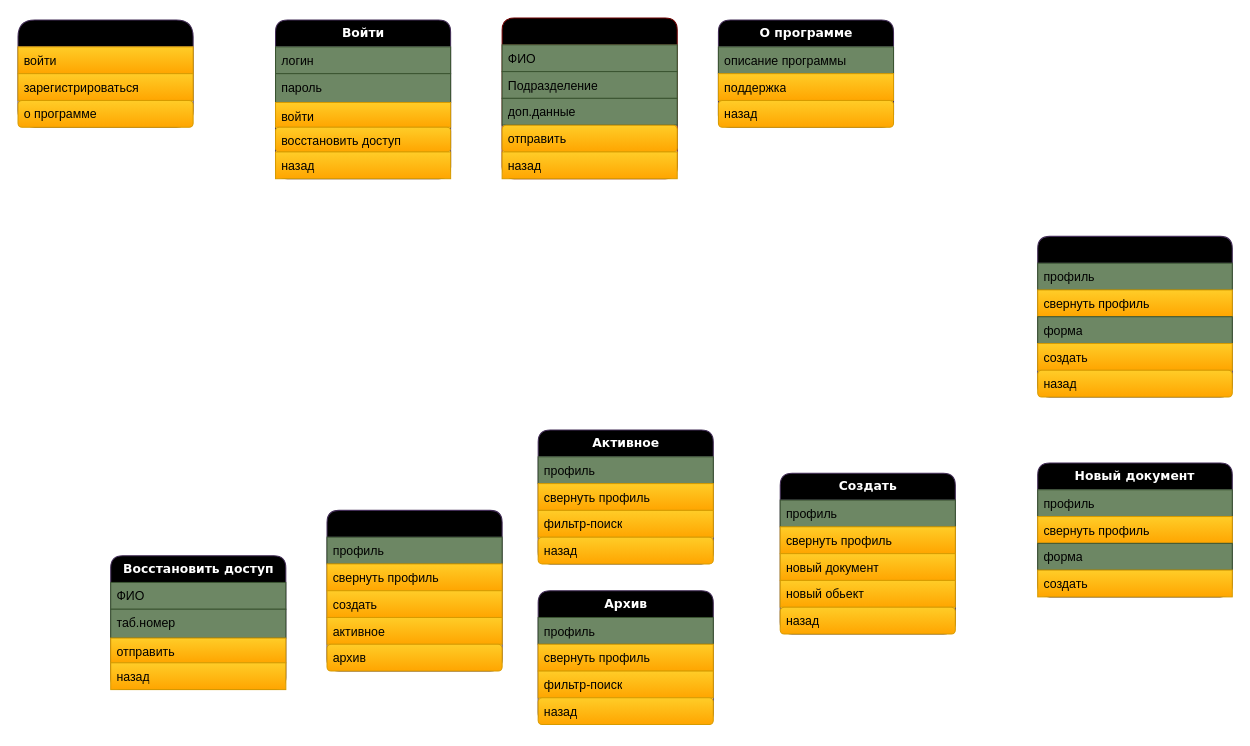
Image size: 1250x746. Some labels were removed from this diagram. Here are the shapes that lost their labels. From the top down, the box of each, then its label:
(17, 19, 193, 127): Страница авторизации
(501, 17, 677, 179): Регистрация
(1037, 235, 1232, 397): новый объект
(326, 509, 502, 671): Главная страница
